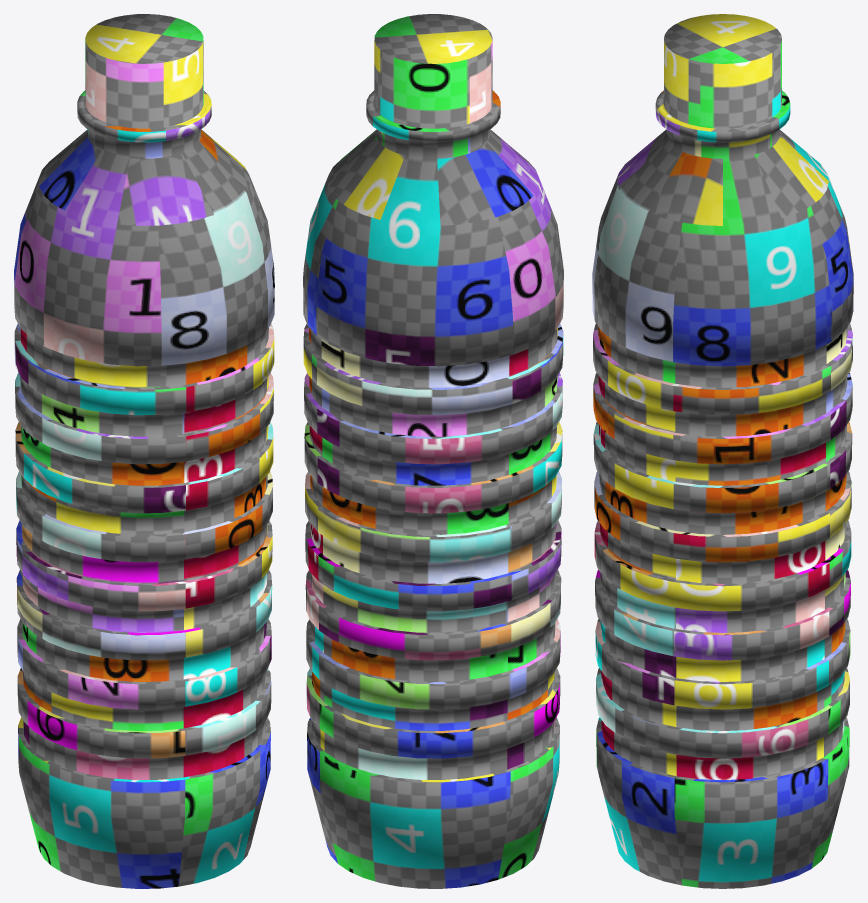
Rendered from bottle1.fbx.
The picture shows the model from 3 angles, left to right: view 1: azimuth 30°, elevation 25°; view 2: azimuth 150°, elevation 25°; view 3: azimuth 270°, elevation 25°; orthographic projection.
Parts seen in each view (by area): view 1: Ridged; view 2: Ridged; view 3: Ridged.
Part boxes in pixels (x1,y1,x2,y2): Ridged: (14,14,274,888); Ridged: (303,14,563,888); Ridged: (592,14,853,888).
Size of the model in its own units: 137 by 465 by 137.
